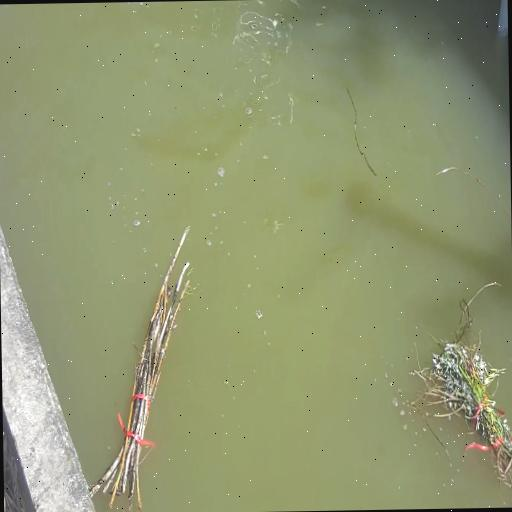twig: (83, 219, 201, 512), (408, 267, 512, 504)
